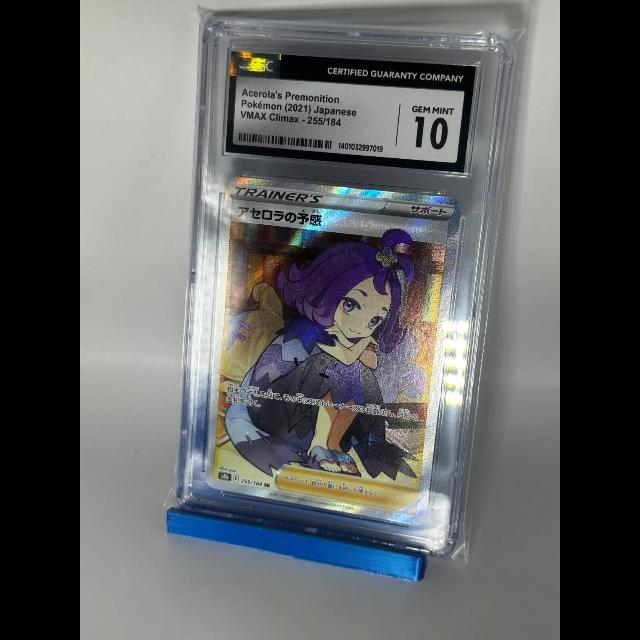card: (204, 175, 464, 528)
cgc_label: (225, 50, 477, 174)
cgc_slab: (174, 20, 519, 559)
